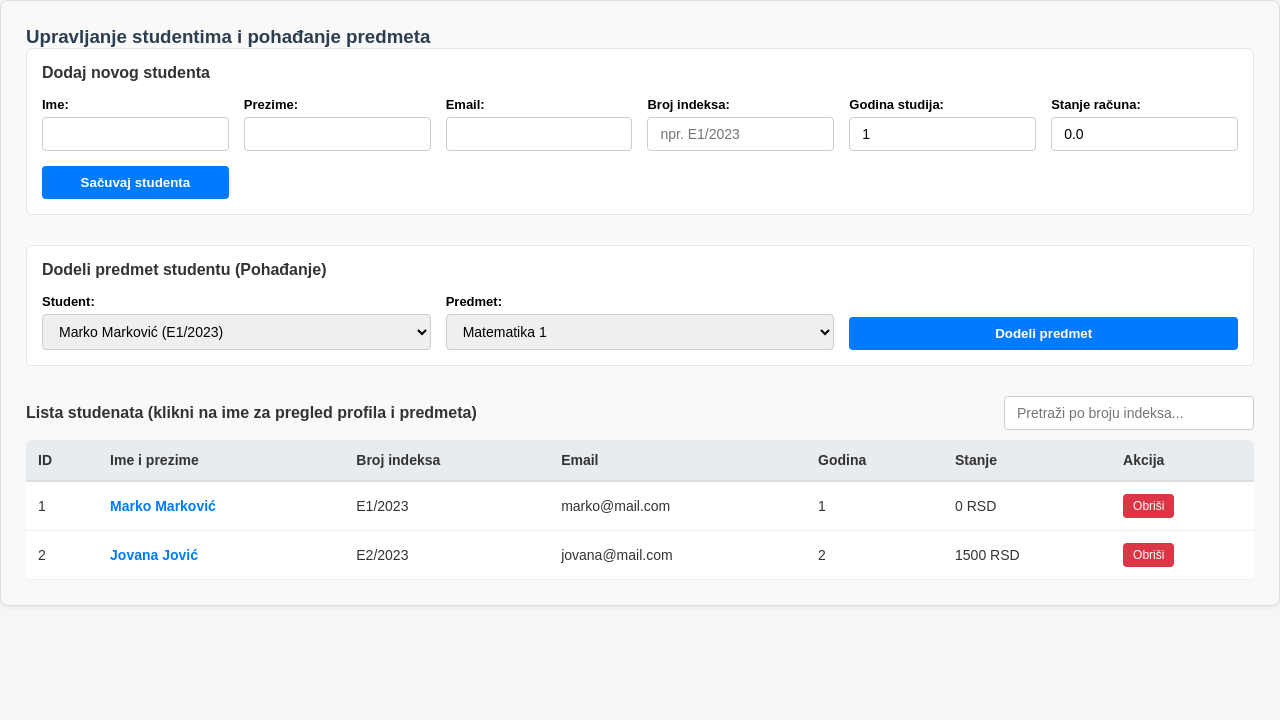
Test: AdminStudenti Component - Comprehensive Tests › omogućava pretragu studenata po broju indeksa
Expected: the text "Marko Marković" is shown, [98,481,344,530]
Type "E1/2023" into the field with placeholder "Pretraži po broju indeksa..." at (1129, 413), box [1004,396,1254,430]
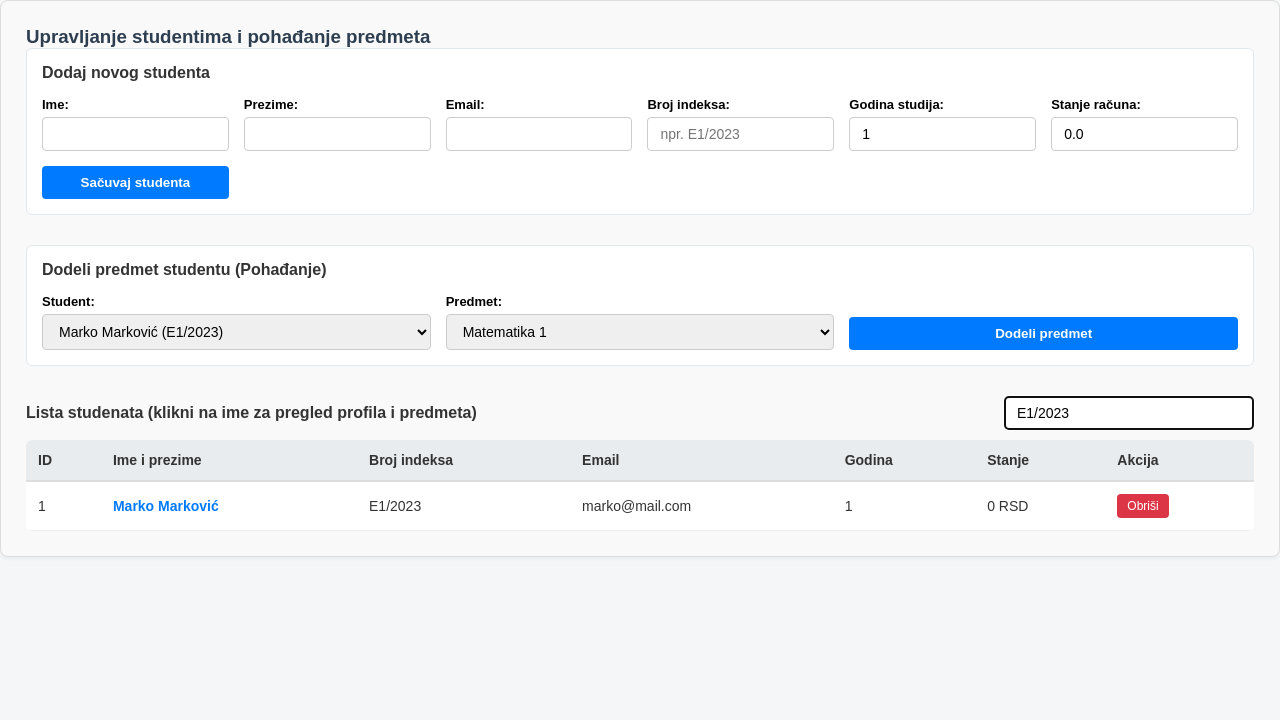
Expected: the text "Marko Marković" is shown, [101,481,357,530]
Expected: the text "Jovana Jović" is gone
